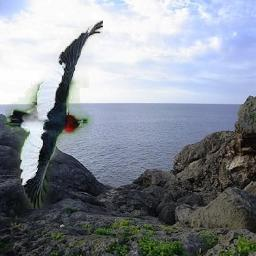Woodpecker: (5, 21, 103, 210)
